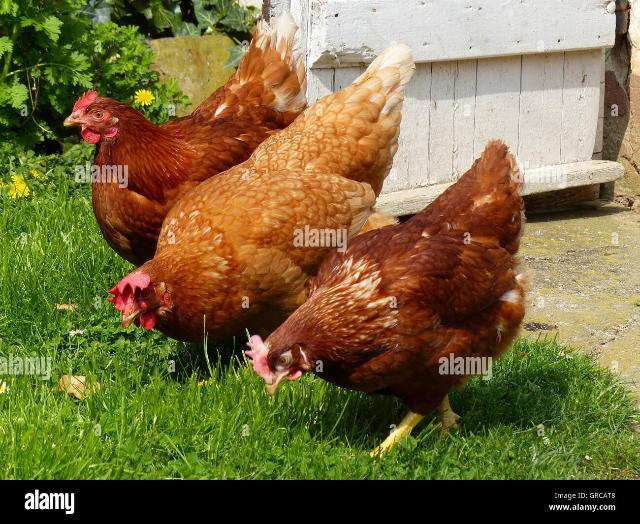Chicken: (244, 136, 530, 455), (110, 41, 418, 335), (63, 8, 309, 267)
